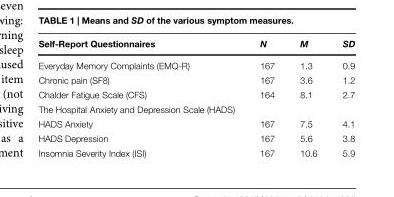table: (37, 37, 354, 157)
table column: (37, 37, 246, 157), (286, 37, 329, 157), (246, 37, 286, 157), (329, 37, 354, 157)
table column header: (37, 37, 354, 53)
table projected row header: (37, 101, 354, 115)
table row: (37, 53, 354, 72), (37, 37, 354, 53), (37, 86, 354, 101), (37, 115, 354, 130), (37, 130, 354, 145), (37, 72, 354, 86), (37, 101, 354, 115), (37, 145, 354, 157)
